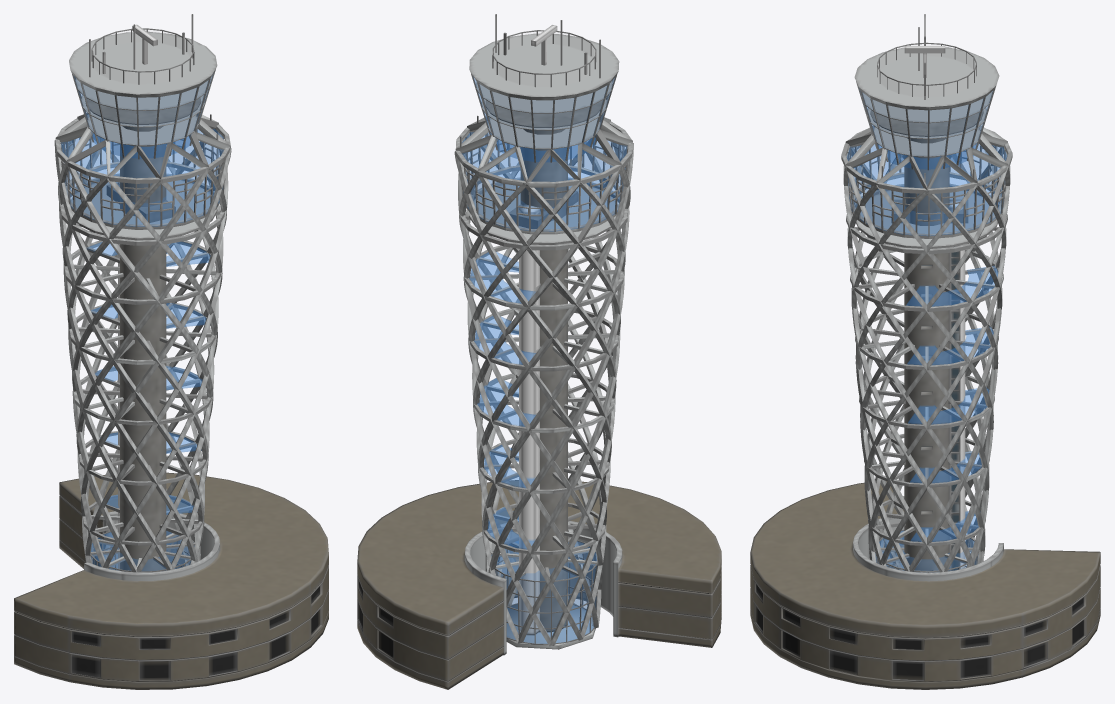
File: airport_building1.glb
3 renders of one model, left to right at view 1: azimuth 30°, elevation 25°; view 2: azimuth 150°, elevation 25°; view 3: azimuth 270°, elevation 25°, orthographic. The views are drawn at different scales.
Visible parts, largest first — view 1: Cylinder, BezierCircle.026; view 2: Cylinder, BezierCircle.026; view 3: Cylinder, BezierCircle.026.
Part boxes in pixels (box(x1,y1,x2,y2)): Cylinder: box(14, 14, 328, 689); BezierCircle.026: box(61, 75, 223, 570); Cylinder: box(357, 14, 721, 689); BezierCircle.026: box(462, 77, 626, 643); Cylinder: box(750, 14, 1100, 689); BezierCircle.026: box(847, 91, 1006, 570).
Size of the model in its own units: 0.051 by 0.0944 by 0.0515.
Materials: 3 (1 with a texture image).
